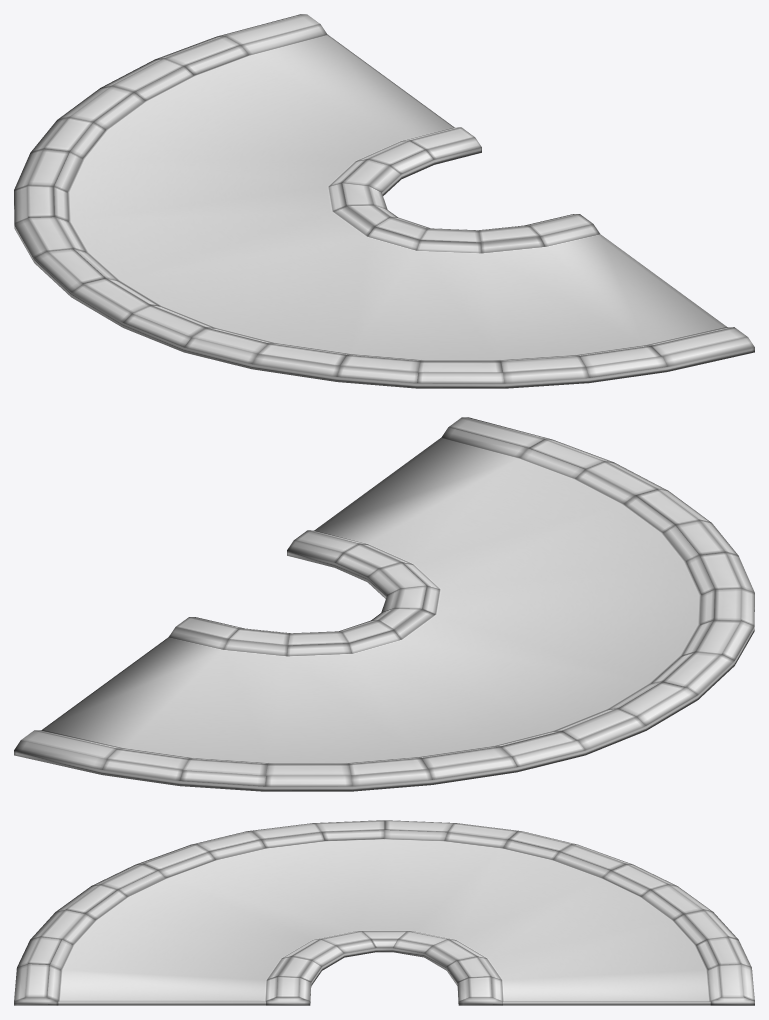
Rendered from Track-04.fbx.
3 views of the same model, one above another, from view 1: azimuth 30°, elevation 25°; view 2: azimuth 150°, elevation 25°; view 3: azimuth 270°, elevation 25° (orthographic). The views are drawn at different scales.
Visible parts, largest first — view 1: Track-04; view 2: Track-04; view 3: Track-04.
Part boxes in pixels (box(x1,y1,x2,y2)): Track-04: box(14, 14, 754, 388); Track-04: box(14, 417, 754, 791); Track-04: box(14, 820, 754, 1005).
Size of the model in its own units: 2.9 by 0.0625 by 5.
